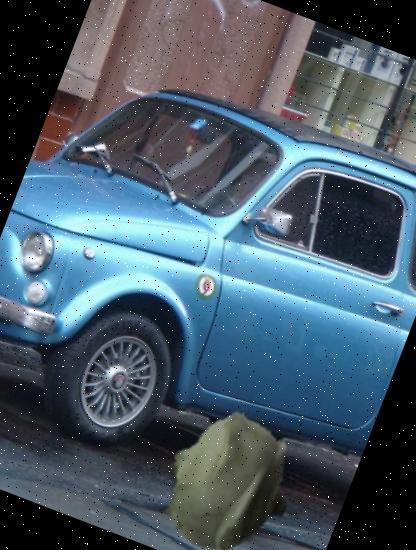Kohlrabi: (136, 391, 322, 550)
